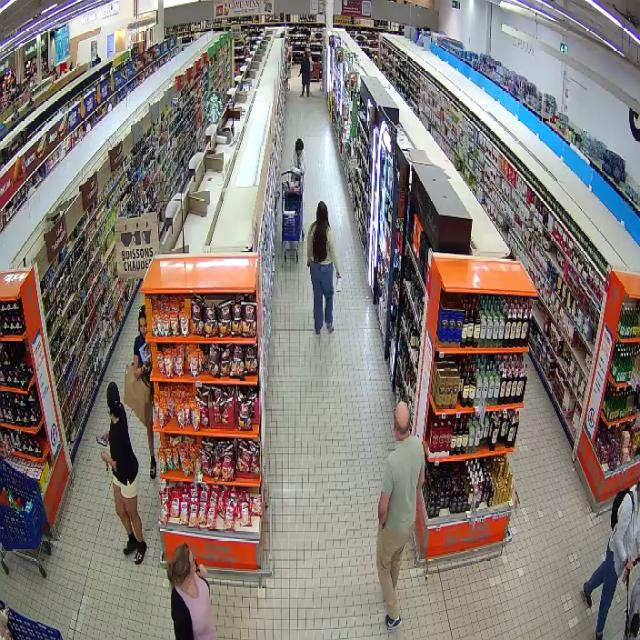article: (140, 343, 151, 363), (335, 276, 341, 291)
bags: (124, 365, 152, 425), (610, 489, 634, 530)
hands: (101, 450, 112, 464), (101, 433, 109, 442), (140, 367, 150, 373), (336, 272, 341, 278), (307, 261, 310, 268)
person: (376, 401, 424, 628), (583, 481, 639, 639), (101, 381, 146, 563), (167, 543, 215, 639), (307, 201, 340, 333), (134, 306, 155, 478), (291, 138, 303, 174)
